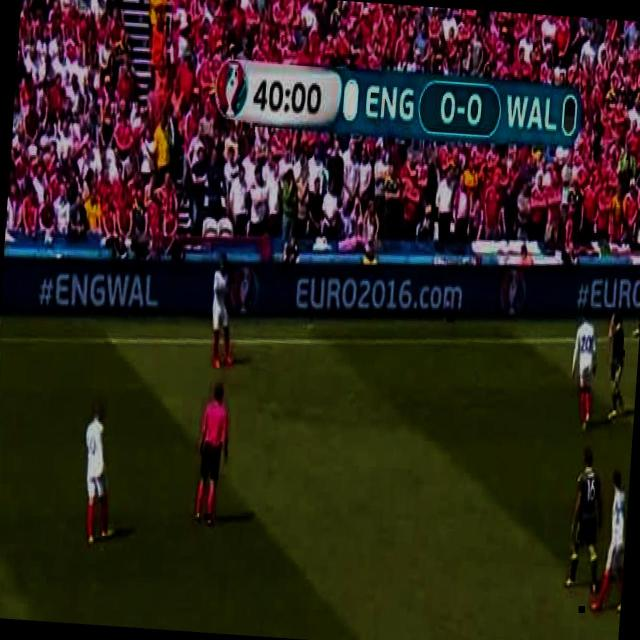player-white: (78, 402, 124, 546), (564, 446, 608, 596), (193, 379, 235, 529), (590, 470, 630, 612), (567, 303, 601, 432), (208, 254, 240, 368), (603, 305, 632, 421), (633, 232, 640, 336)
